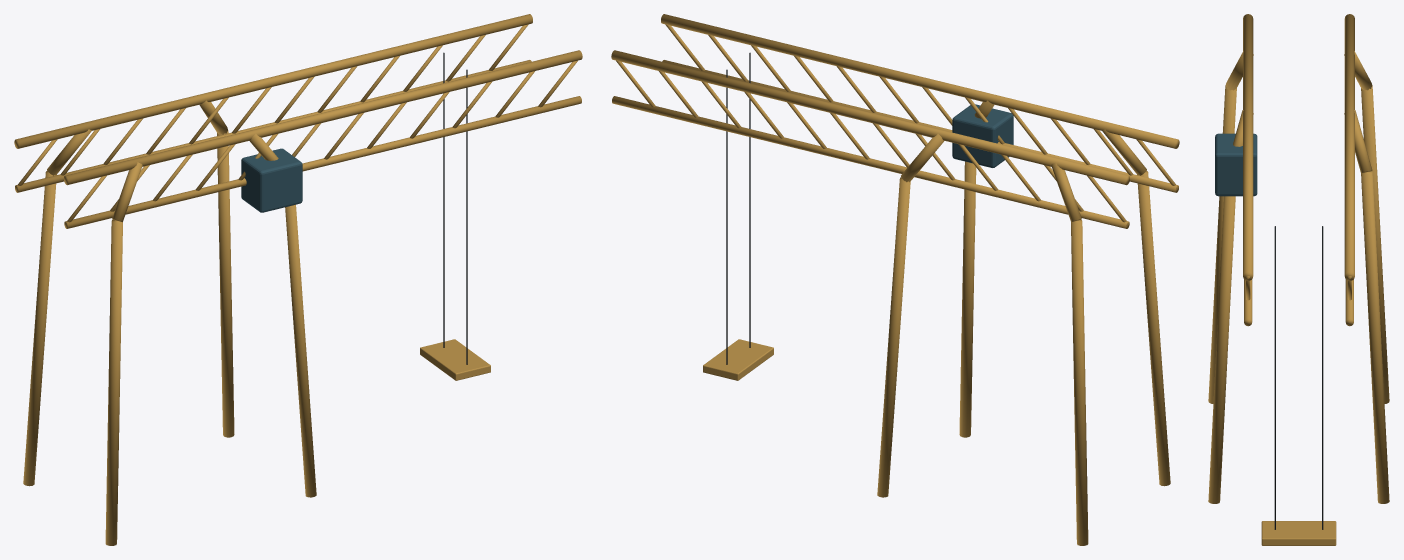
File: SM_PortCrane.fbx
3 renders of one model, left to right at view 1: azimuth 30°, elevation 25°; view 2: azimuth 150°, elevation 25°; view 3: azimuth 270°, elevation 25°, orthographic. The views are drawn at different scales.
Parts seen in each view (by area): view 1: SM_PortCrane; view 2: SM_PortCrane; view 3: SM_PortCrane.
Boxes of the visible parts, box(x1,y1,x2,y2) form: SM_PortCrane: box(14, 14, 582, 545); SM_PortCrane: box(611, 14, 1179, 545); SM_PortCrane: box(1208, 14, 1389, 545).
Size of the model in its own units: 3617 by 1069 by 2432.
